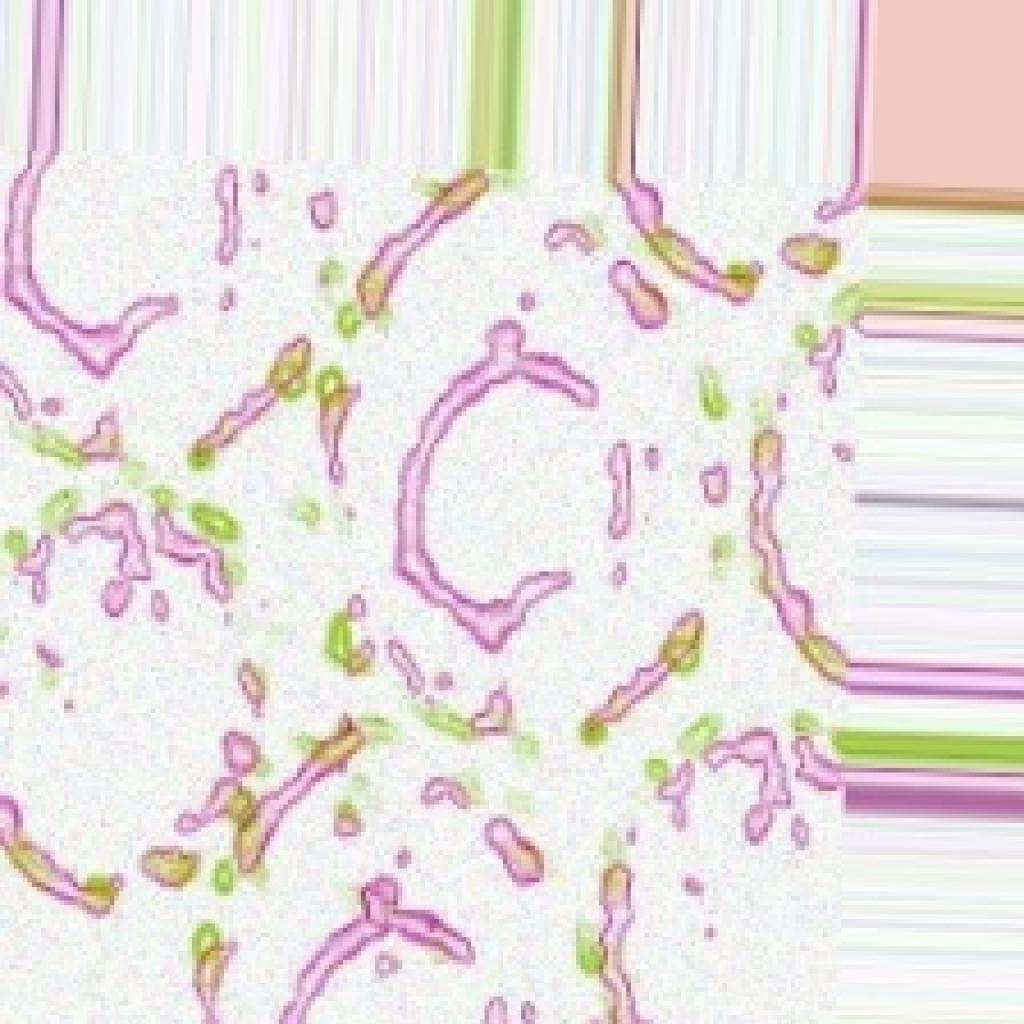Sprialbacteria: (0, 0, 882, 1019)
